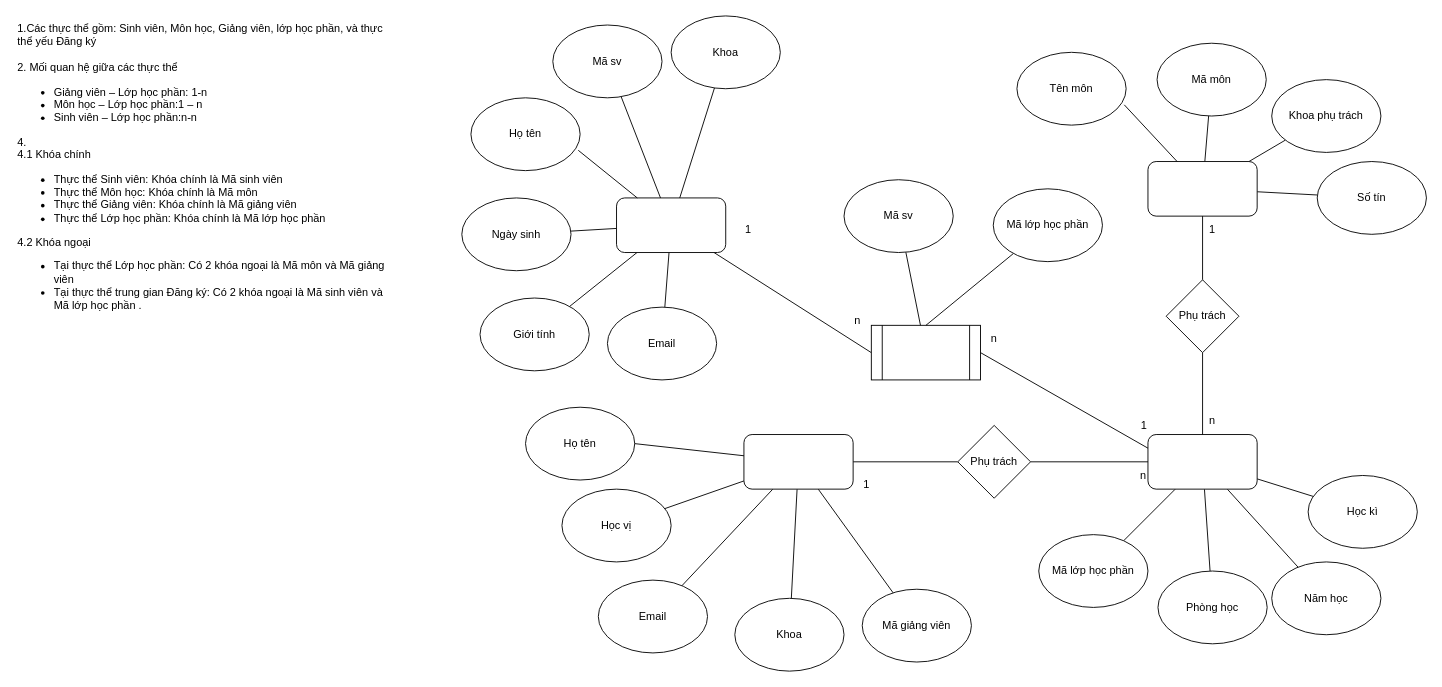
This 1442x687 diagram has some shape labels left out. The centre of each missing label's shape, as x and y in pixels:
Giảng viên: the point at 798,461
Lớp học phần: the point at 1202,461
Môn học: the point at 1202,188
Sinh viên: the point at 671,225
Đăng ký: the point at 925,352
